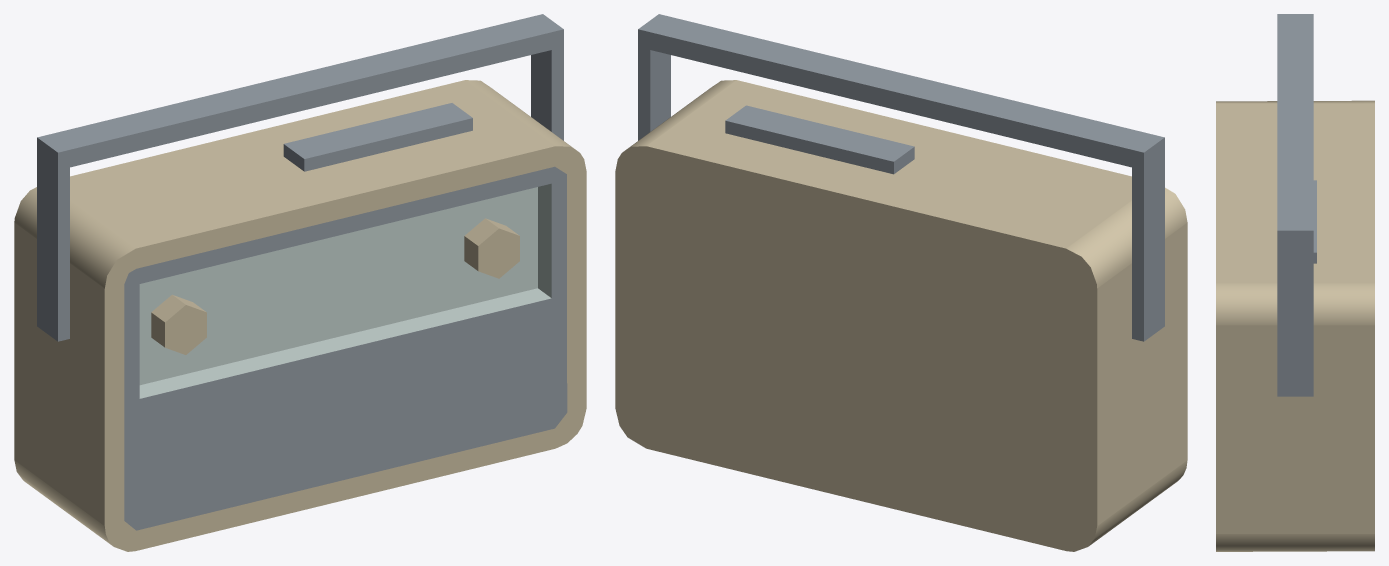
File: cc0-radio-lod1.glb
3 renders of one model, left to right at view 1: azimuth 30°, elevation 25°; view 2: azimuth 150°, elevation 25°; view 3: azimuth 270°, elevation 25°, orthographic. The views are drawn at different scales.
Parts seen in each view (by area): view 1: part_0; view 2: part_0; view 3: part_0.
Part boxes in pixels (bbox=[...]): part_0: bbox=[14, 14, 586, 551]; part_0: bbox=[615, 14, 1187, 551]; part_0: bbox=[1216, 14, 1374, 551].
Bounding box in the file's own units: 0.315 × 0.2282 × 0.0975.
